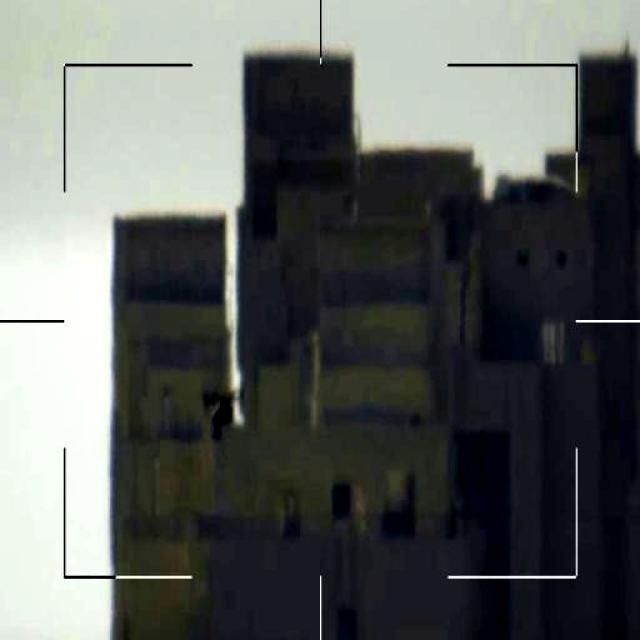bird: (199, 375, 249, 440)
